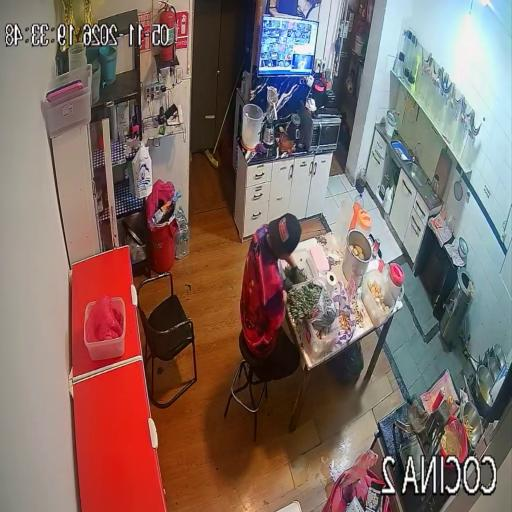Balde: (241, 103, 264, 150)
Envase Ketchup: (433, 387, 445, 410)
Envase Llajua: (446, 396, 453, 407)
Jarra1: (387, 263, 404, 299)
Jarra2: (355, 209, 371, 235)
Jarra3: (334, 197, 354, 248)
JarraLicuadora: (431, 174, 439, 196)
Microondas: (299, 104, 341, 152)
Persona1: (239, 214, 301, 382)
Taper: (293, 249, 318, 282), (280, 263, 289, 278)
Taper2: (304, 309, 341, 356)
Taper3: (362, 270, 396, 326)
Taper4: (84, 296, 126, 360)
olla1: (343, 229, 372, 287)
